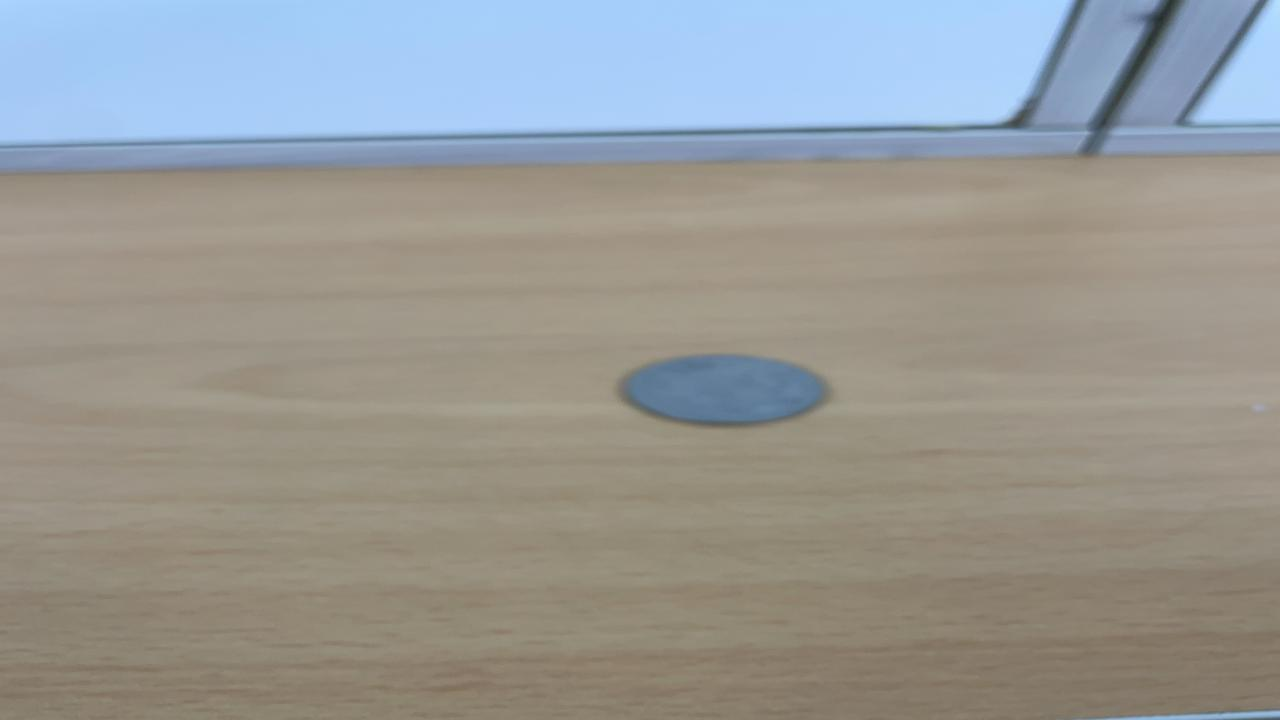coin: (614, 350, 838, 429)
